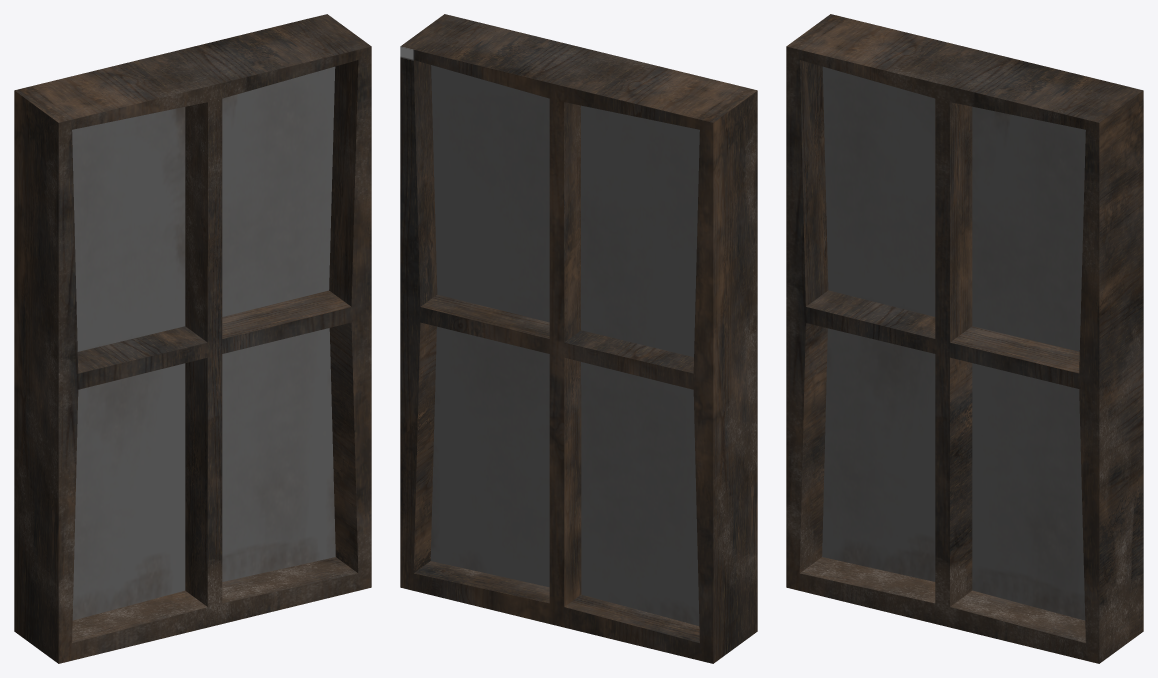
Rendered from New_window_Rock.fbx.
3 renders of one model, left to right at view 1: azimuth 30°, elevation 25°; view 2: azimuth 150°, elevation 25°; view 3: azimuth 330°, elevation 25°, orthographic.
Parts seen in each view (by area): view 1: New window; view 2: New window; view 3: New window.
Part boxes in pixels (box(x1,y1,x2,y2)): New window: box(14, 14, 371, 663); New window: box(400, 14, 757, 663); New window: box(786, 14, 1143, 663).
Size of the model in its own units: 2217 by 3662 by 545.
